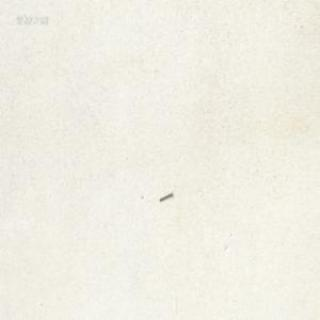Bolttrack_idkeyframe: (157, 190, 172, 201)
